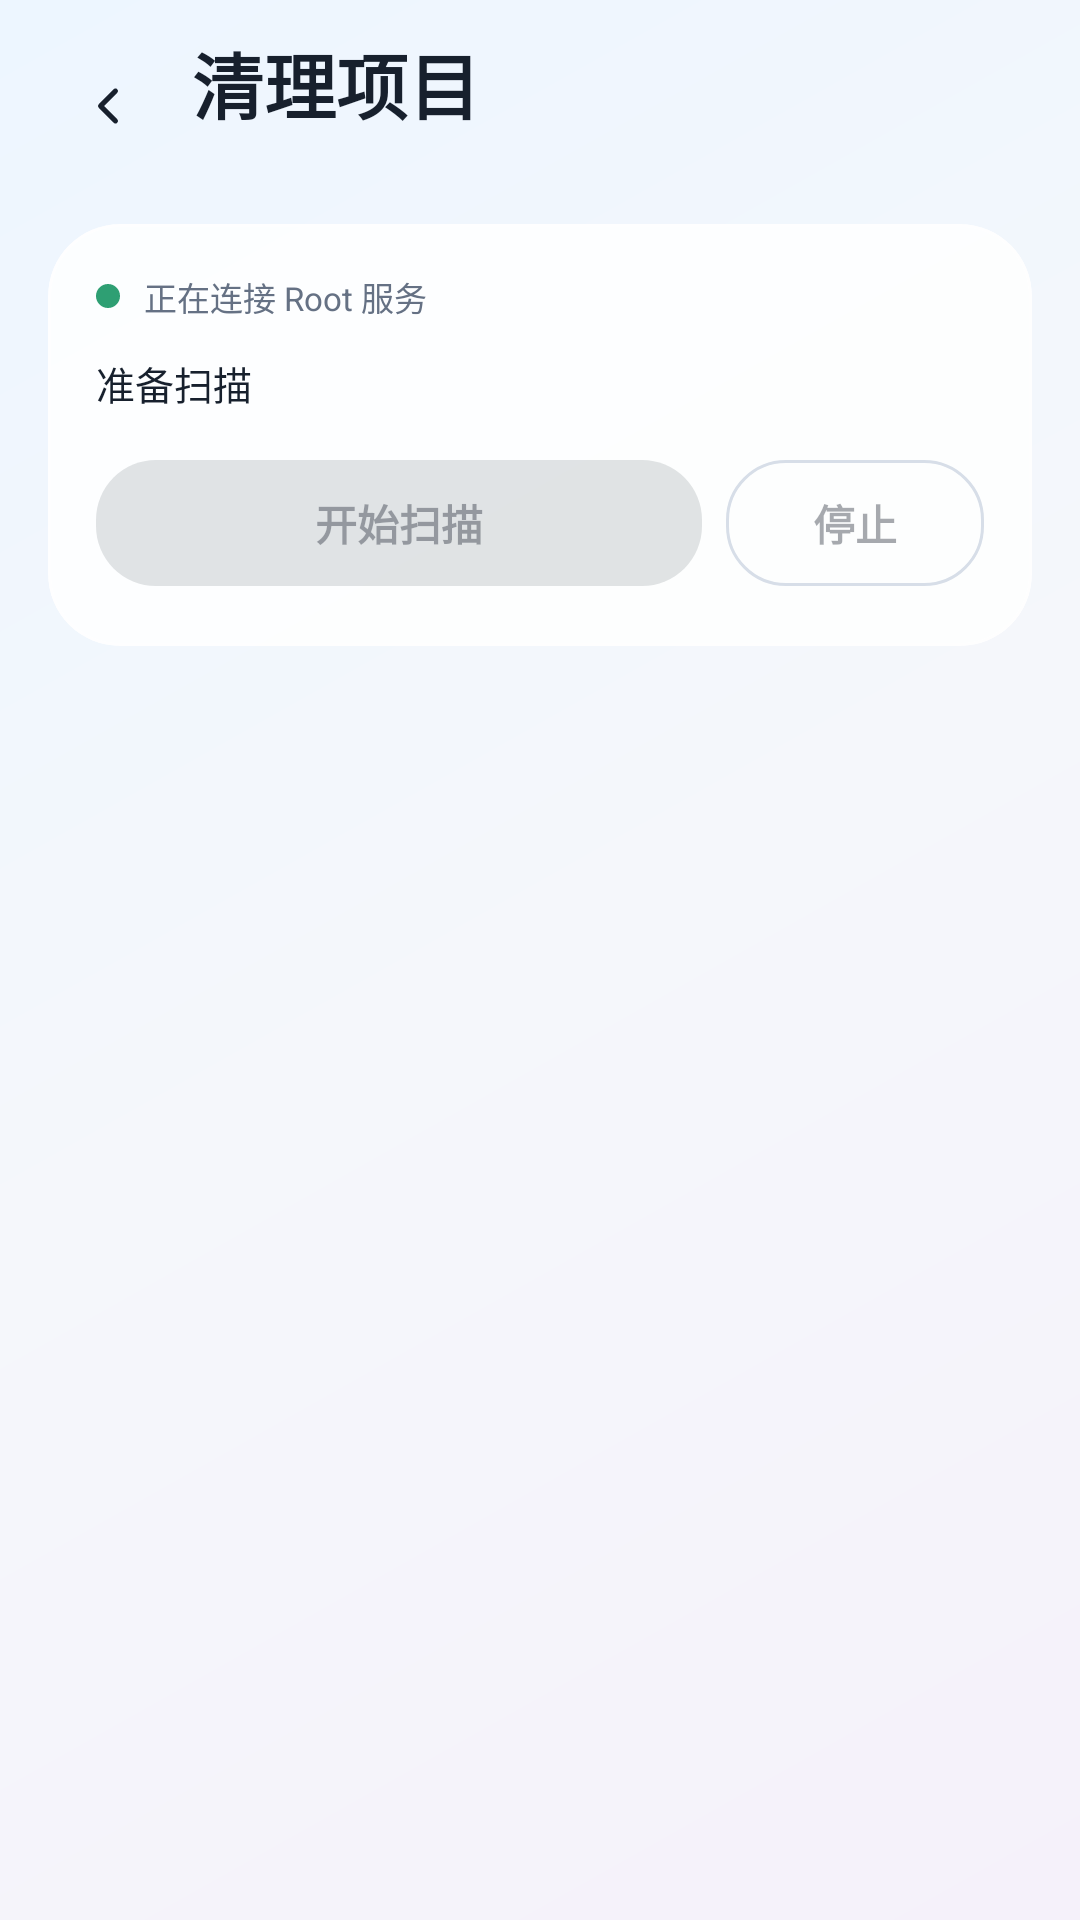

Point at icon controls on the screen. Image size 1080 × 1920, points as (x,y).
返回: (108,106)
